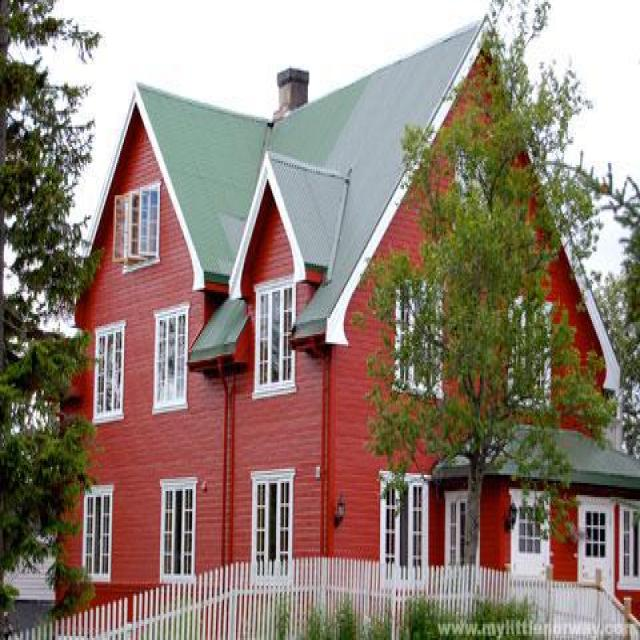other: (70, 98, 365, 552), (511, 324, 637, 620)
